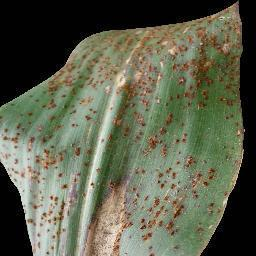Corn_Common_Rust: (75, 28, 247, 256), (0, 47, 75, 256), (157, 0, 244, 28)
